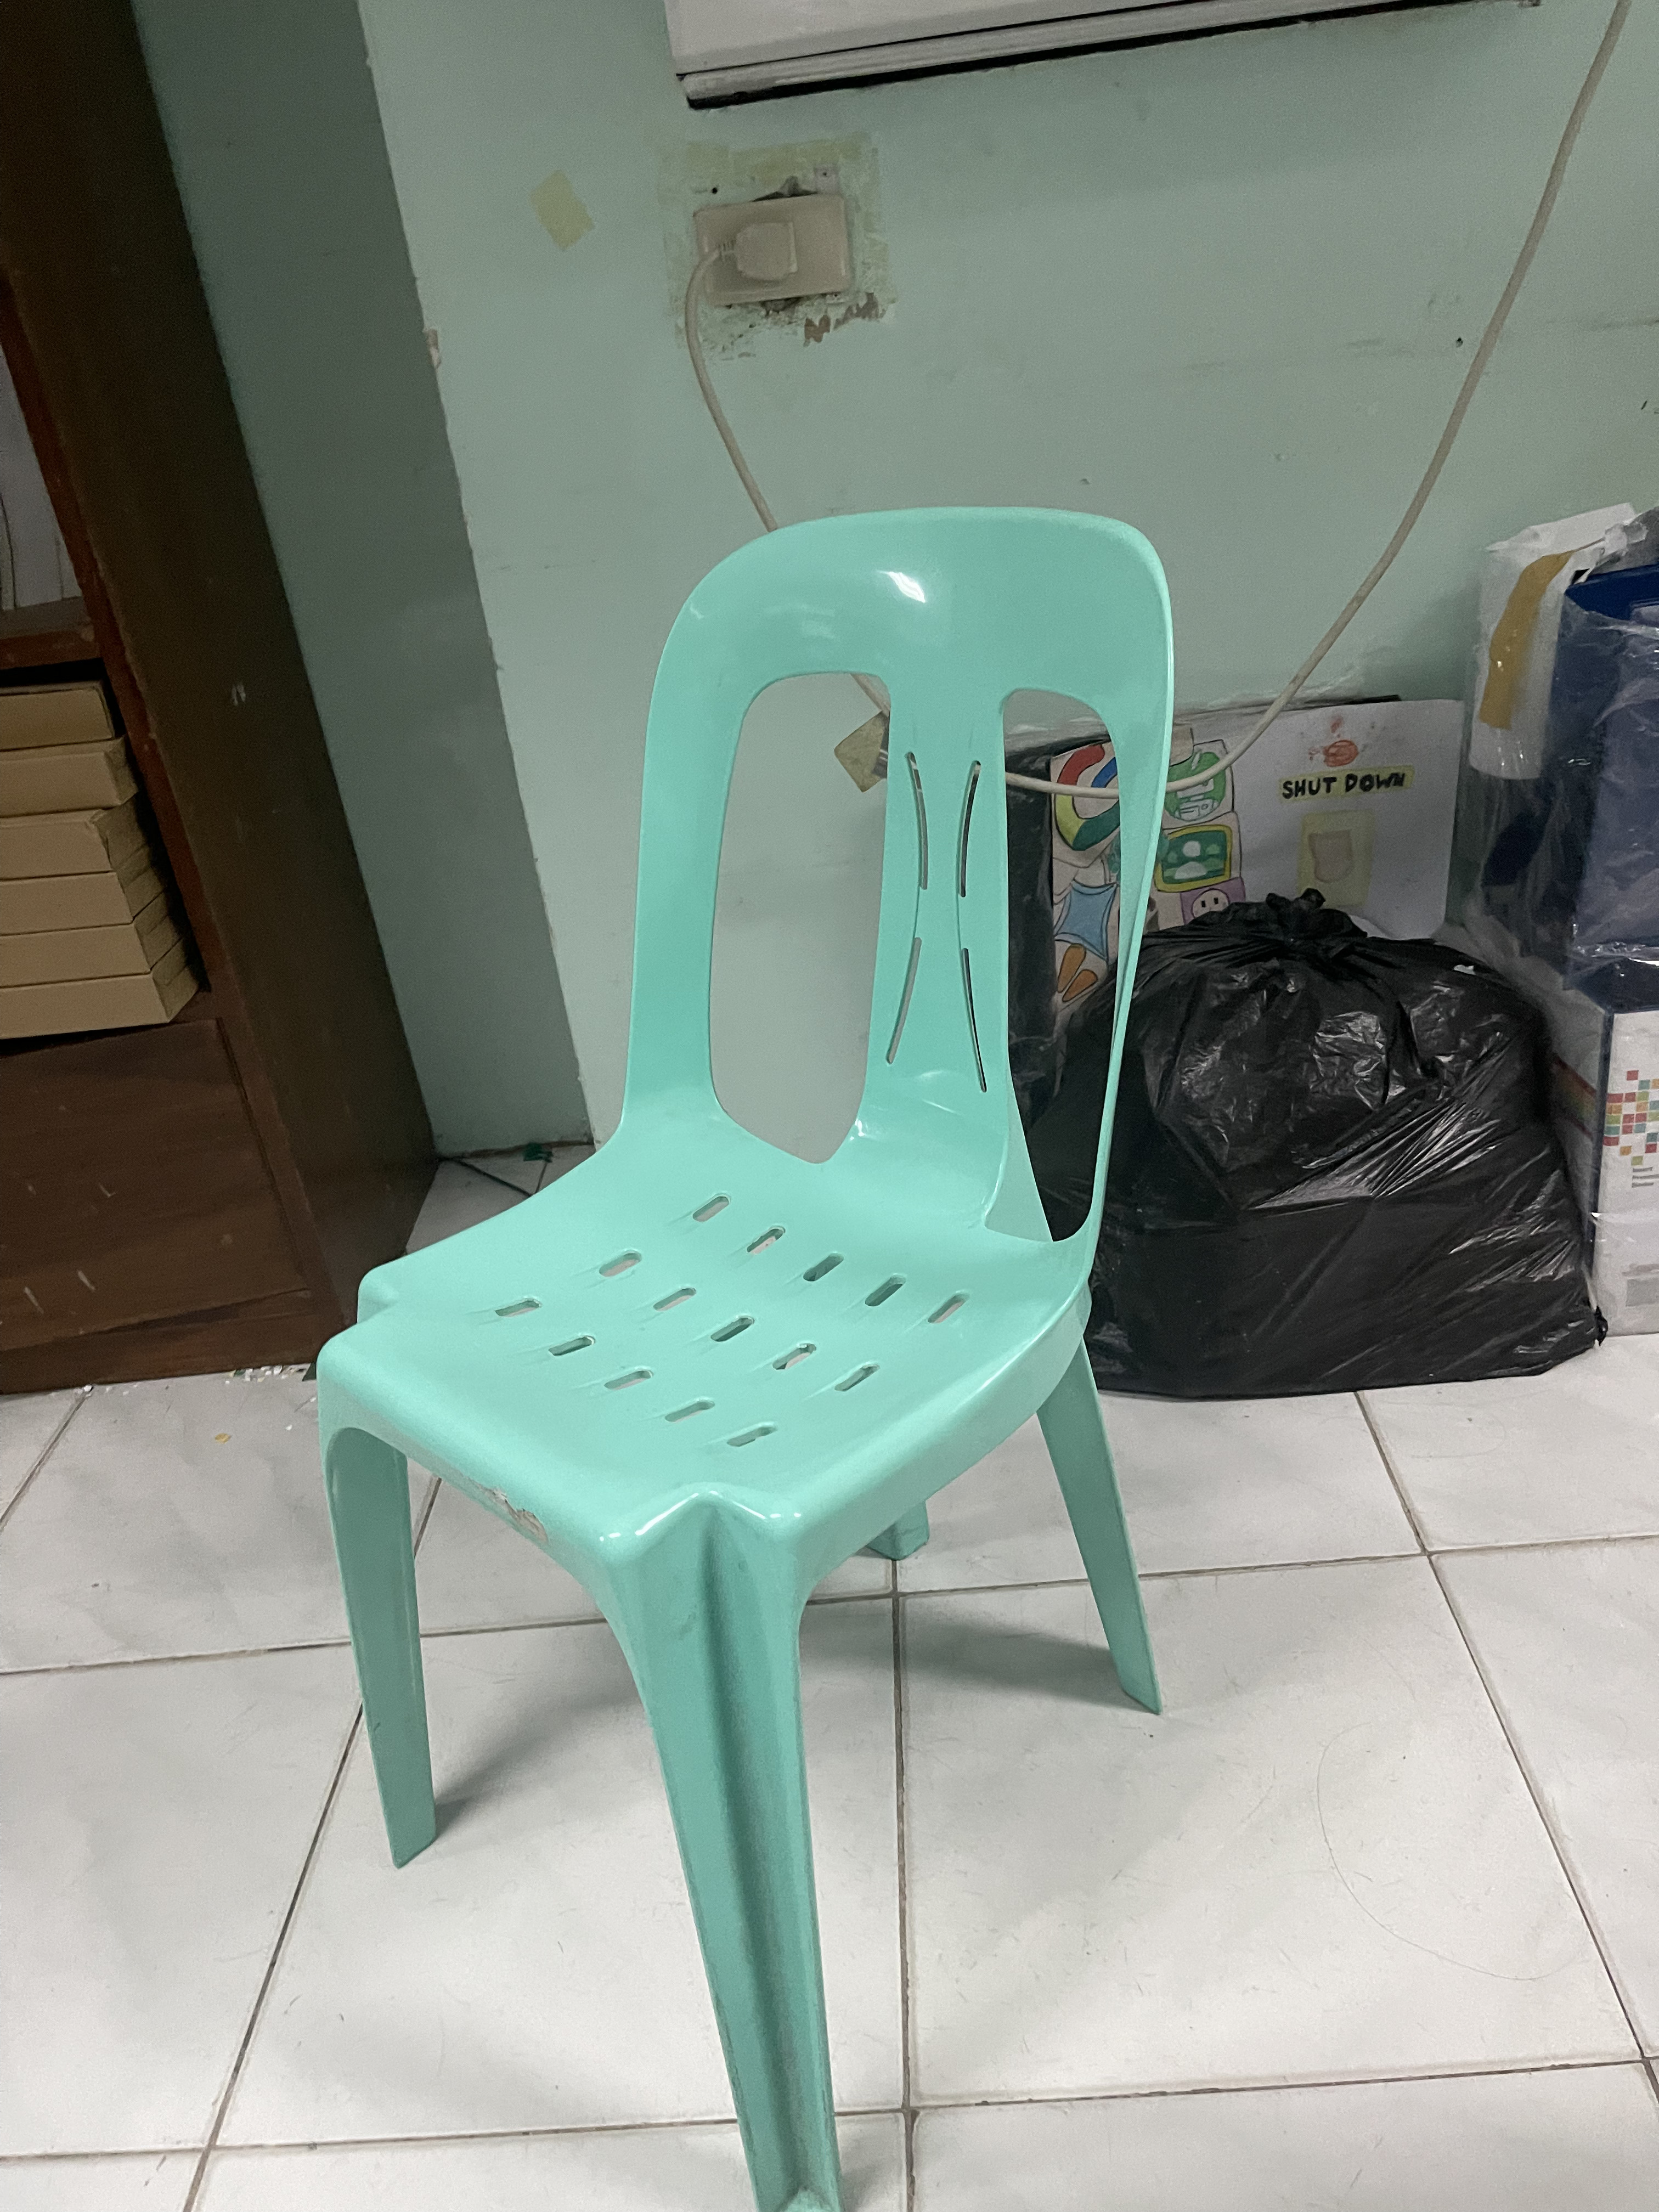chair2: (298, 500, 1187, 2212)
